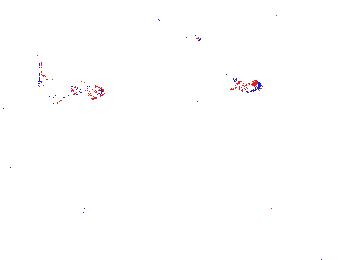red belly glassfish: (202, 67, 264, 94), (137, 11, 163, 25), (182, 30, 204, 44)
redtail glassfish: (36, 67, 107, 103)
siberian prawn: (23, 206, 99, 241)
